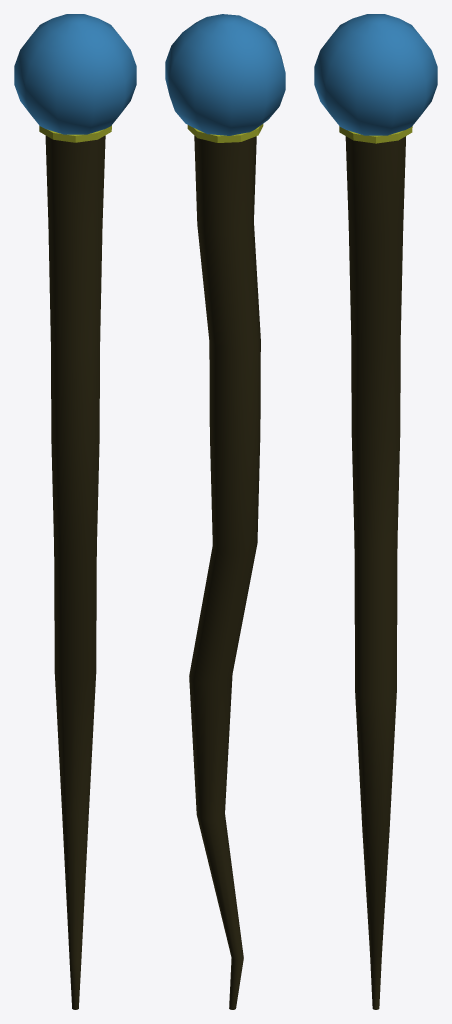
The model's file is Xander_Staff_TEXTURED.fbx.
3 views of the same model, side by side, from view 1: azimuth 90°, elevation 25°; view 2: azimuth 150°, elevation 25°; view 3: azimuth 270°, elevation 25° (orthographic).
Parts seen in each view (by area): view 1: pCylinder2; view 2: pCylinder2; view 3: pCylinder2.
Boxes of the visible parts, x1=… form: pCylinder2: x1=14, y1=14, x2=136, y2=1009; pCylinder2: x1=165, y1=14, x2=285, y2=1009; pCylinder2: x1=314, y1=14, x2=437, y2=1009.
Bounding box in the file's own units: 0.855 × 7.97 × 0.899.
1 material, 1 textured.
